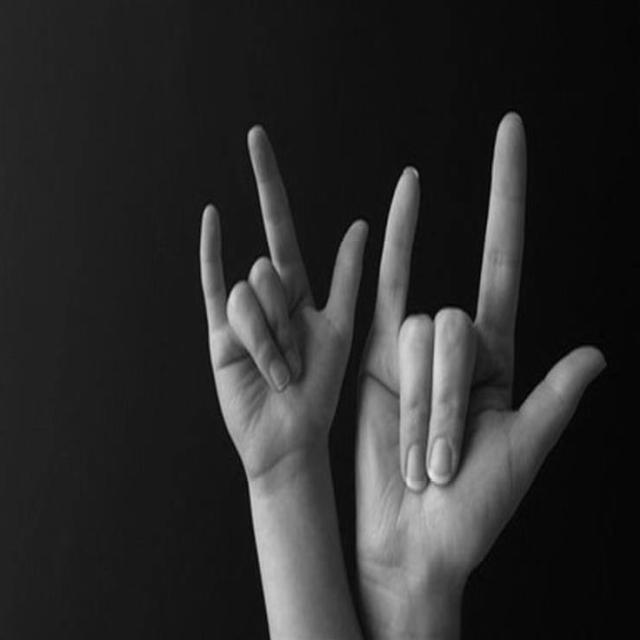i love you: (350, 107, 613, 585), (193, 114, 375, 516)
